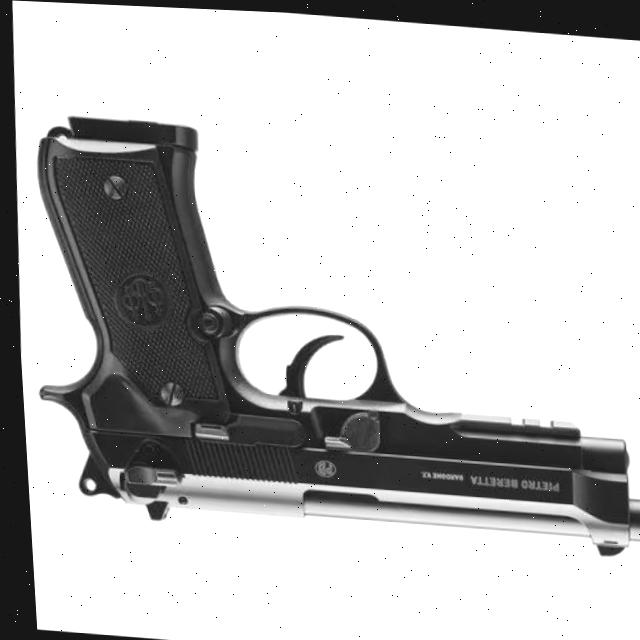gun: (33, 114, 640, 555)
